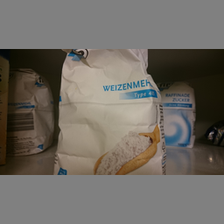flour: (55, 49, 167, 176), (9, 66, 55, 158), (156, 80, 197, 150)
